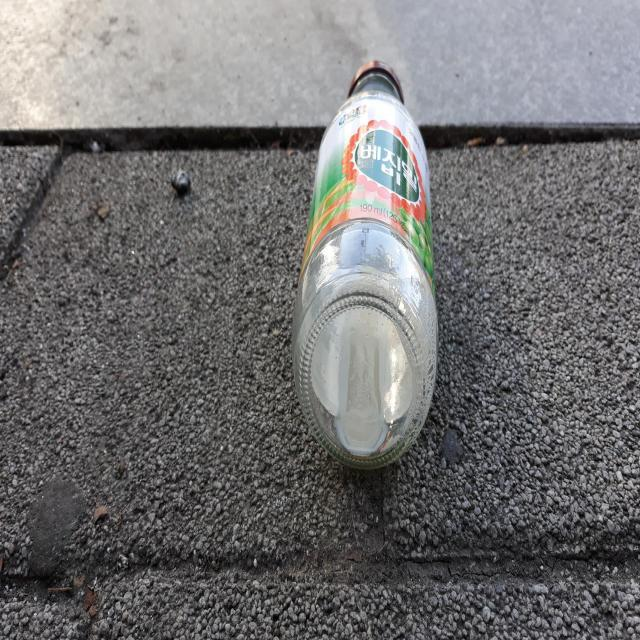glass: (292, 60, 439, 467)
